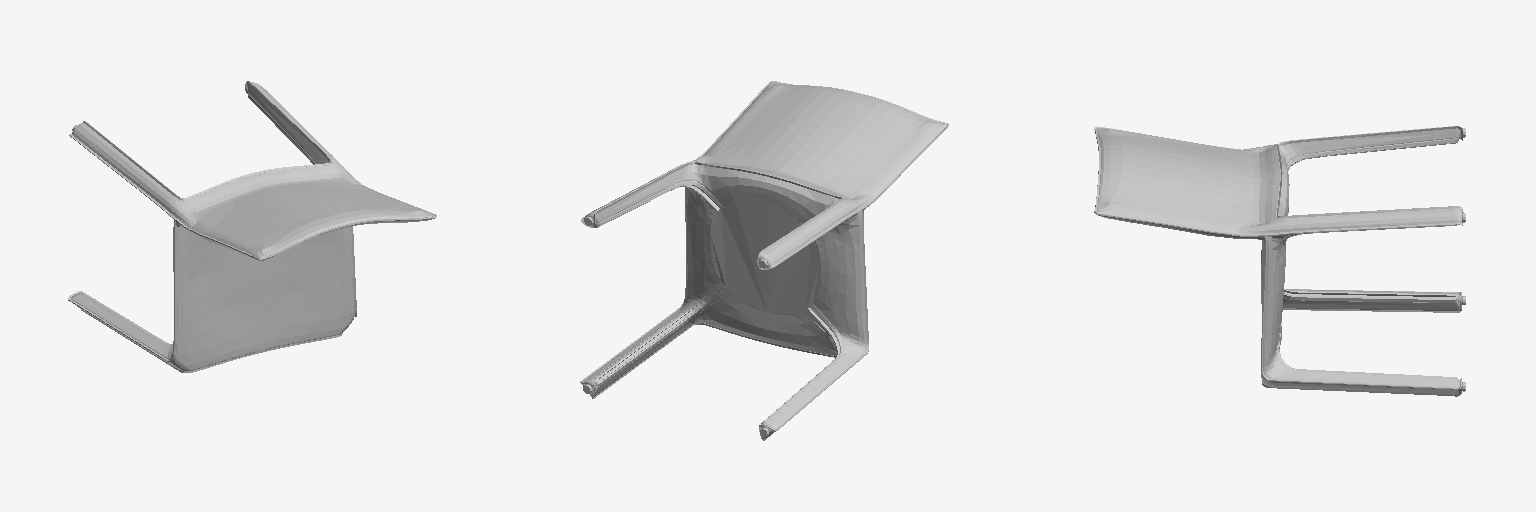
3 renders of one model, left to right at view 1: azimuth 30°, elevation 25°; view 2: azimuth 150°, elevation 25°; view 3: azimuth 270°, elevation 25°, orthographic.
Visible parts, largest first — view 1: SMOOTH_PART; view 2: SMOOTH_PART; view 3: SMOOTH_PART.
Part boxes in pixels (left/top/right/bottom): SMOOTH_PART: left=68, top=81, right=436, bottom=372; SMOOTH_PART: left=580, top=81, right=948, bottom=440; SMOOTH_PART: left=1094, top=126, right=1465, bottom=396.
Bounding box in the file's own units: 505 × 482 × 820.